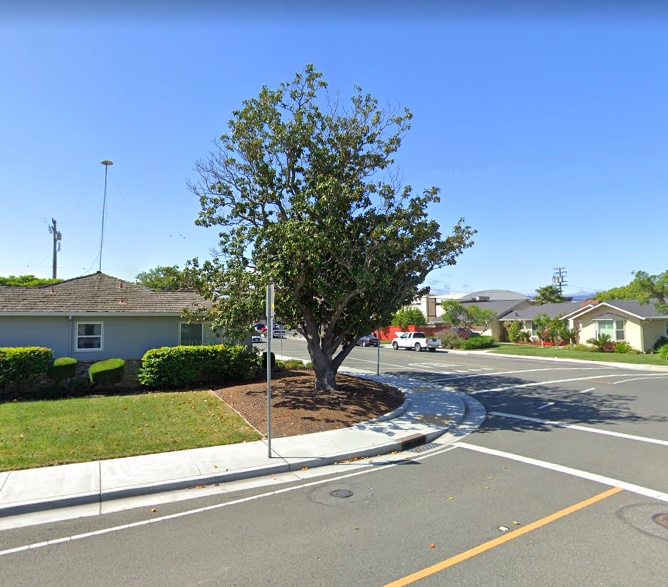tree: (168, 61, 480, 391)
